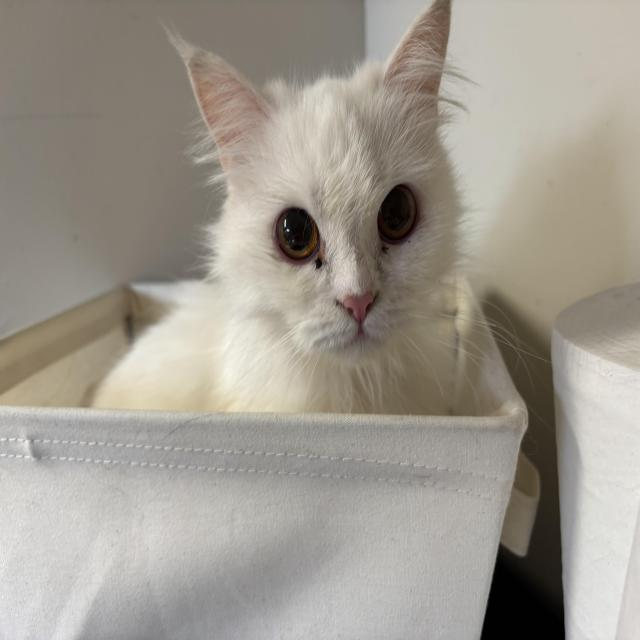persian_cat: (154, 1, 482, 384)
